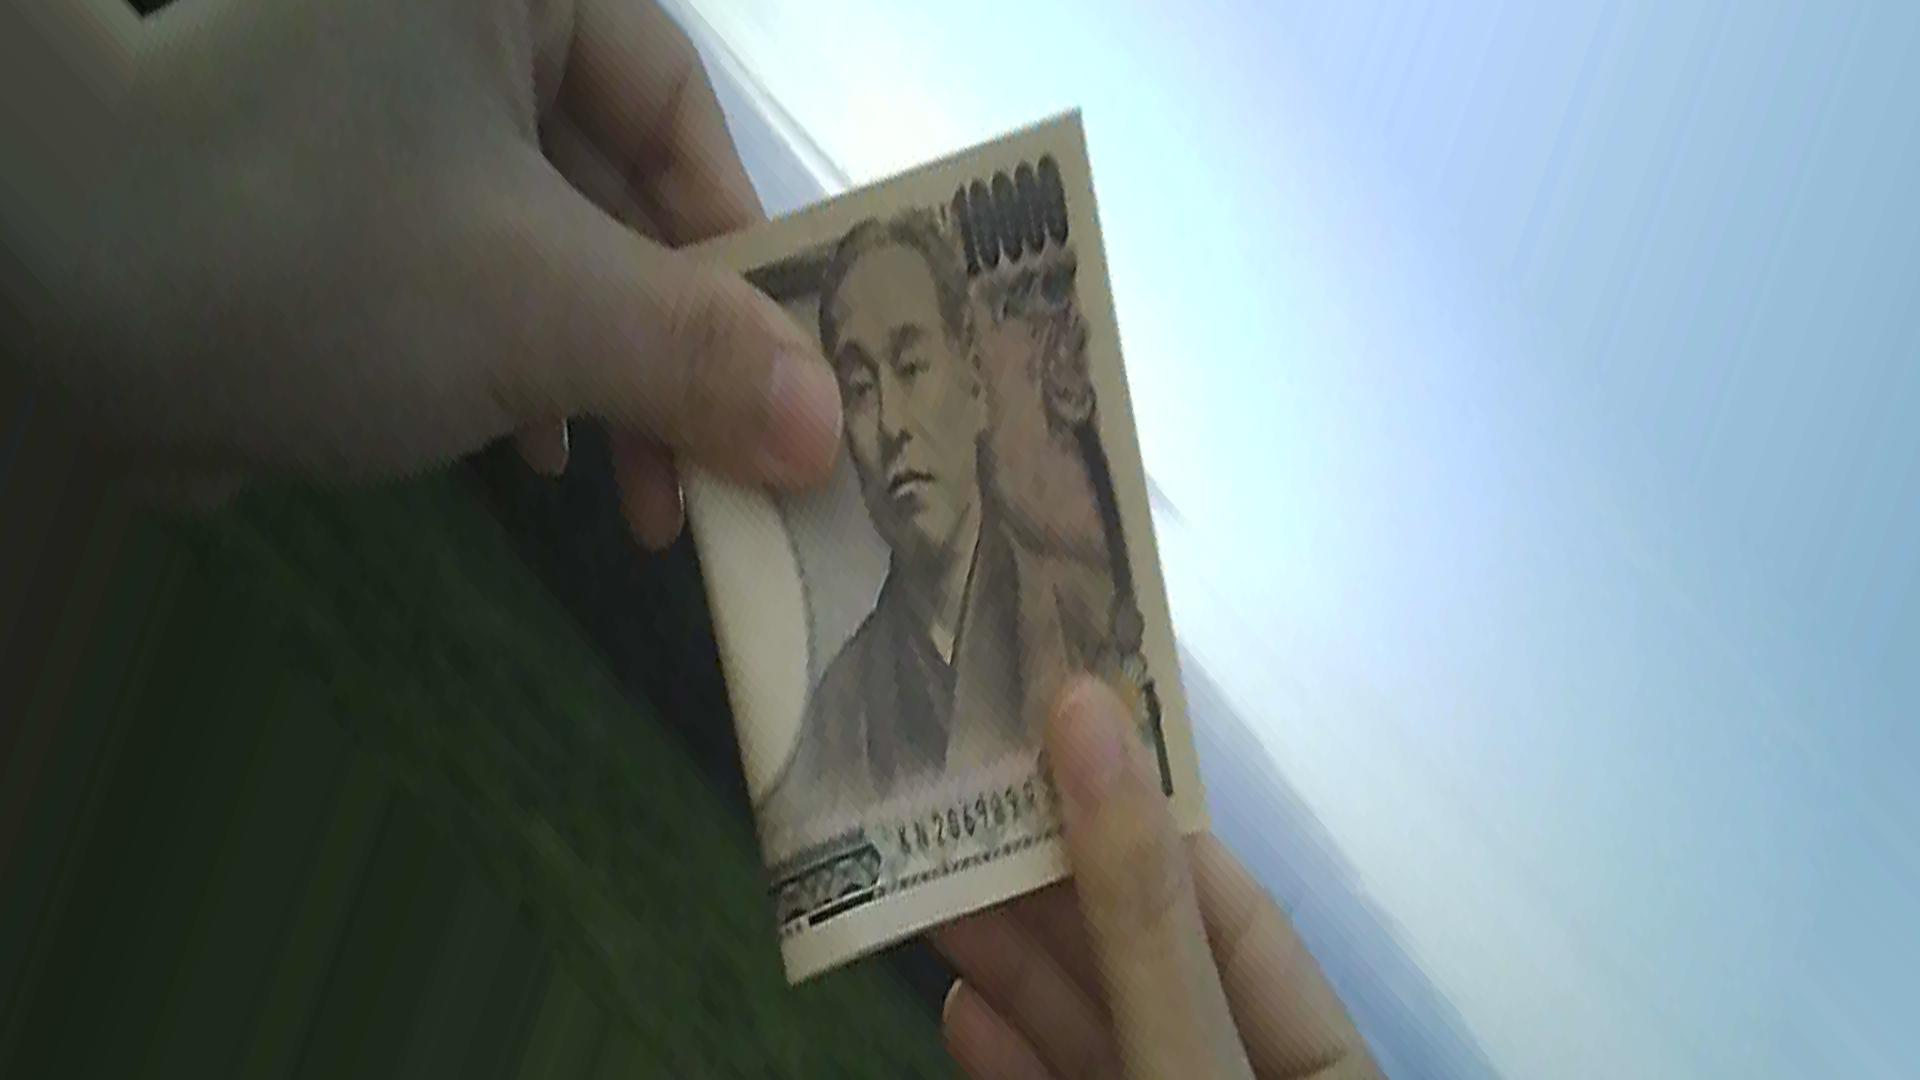10,000 Yen: (640, 71, 1225, 989)
